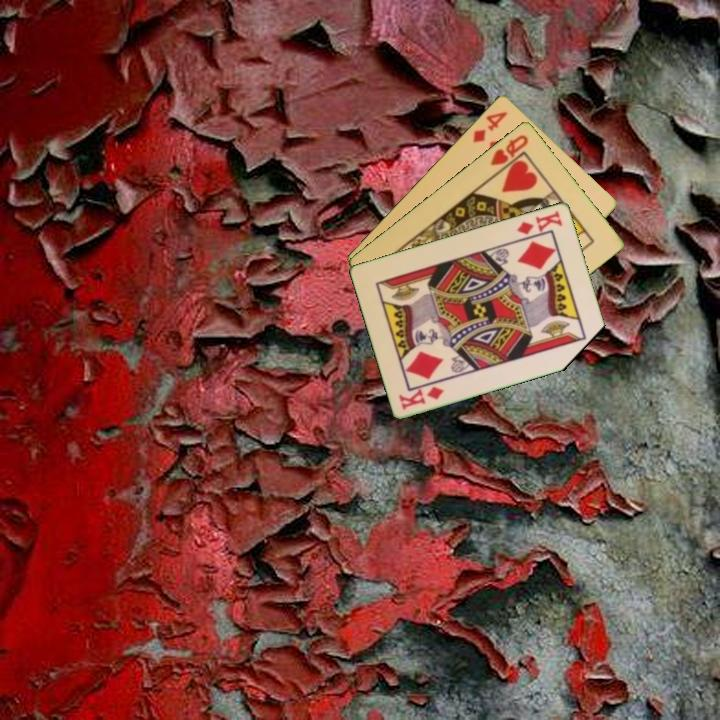4d: (469, 107, 510, 145)
Kd: (395, 382, 447, 413), (513, 207, 565, 237)
Qh: (487, 131, 531, 168)
